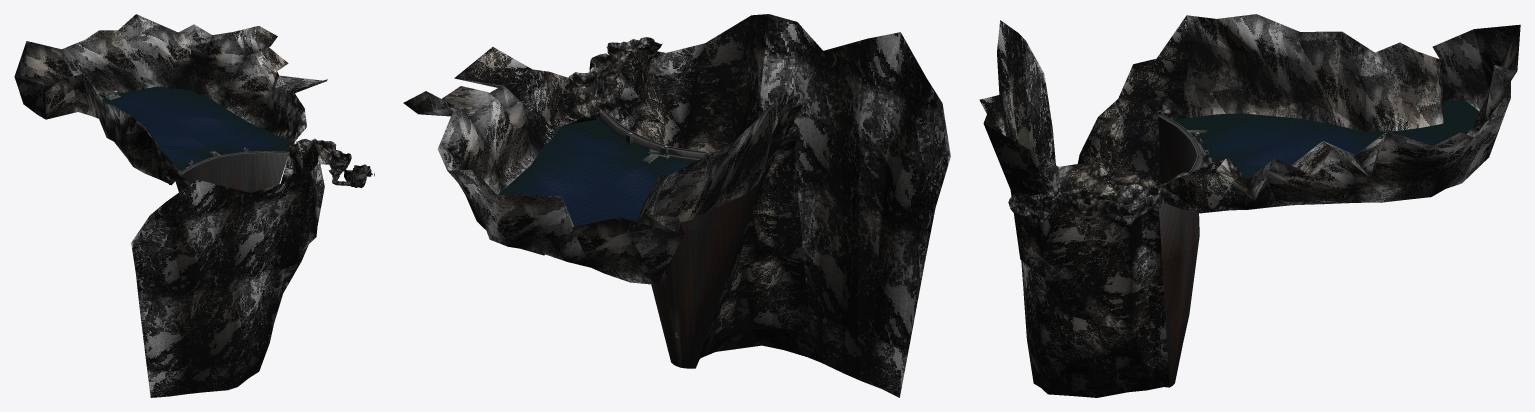
File: Dam.001.glb
3 renders of one model, left to right at view 1: azimuth 30°, elevation 25°; view 2: azimuth 150°, elevation 25°; view 3: azimuth 270°, elevation 25°, orthographic. The views are drawn at different scales.
Parts seen in each view (by area): view 1: Dam.001; view 2: Dam.001; view 3: Dam.001.
Part boxes in pixels (x1,y1,x2,y2): Dam.001: [14, 14, 374, 397]; Dam.001: [403, 14, 950, 397]; Dam.001: [979, 14, 1520, 397].
Size of the model in its own units: 1662 by 1408 by 2024.
Materials: 58 (57 with a texture image).
